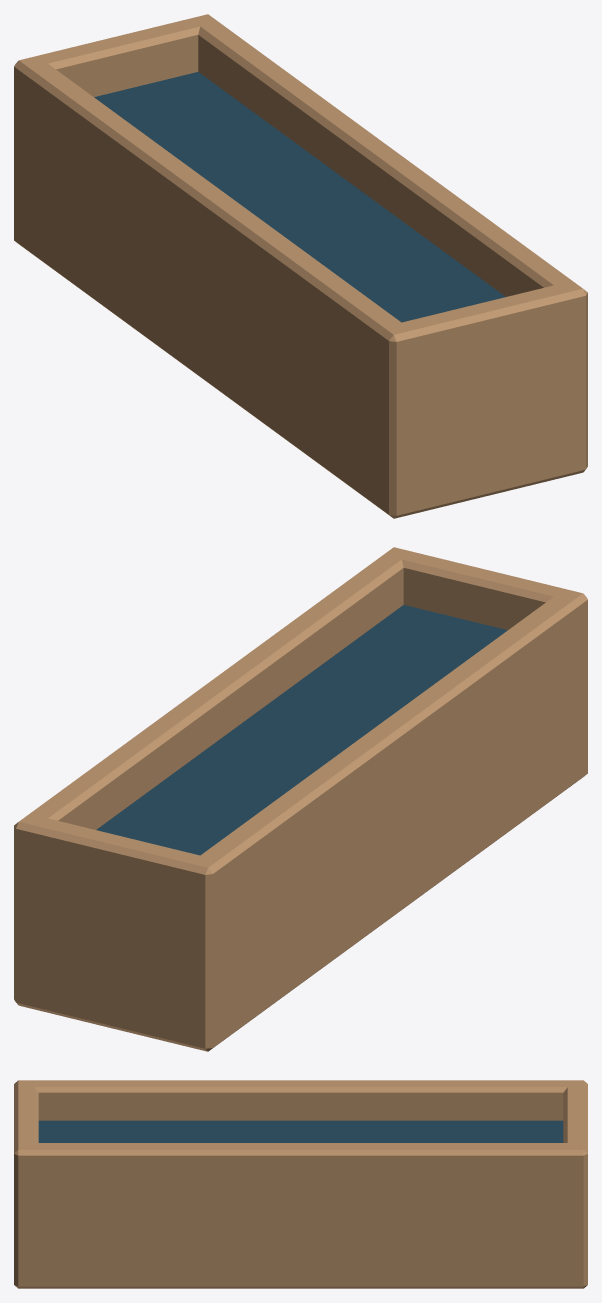
The model's file is Trough A-col.glb.
3 views of the same model, one above another, from view 1: azimuth 30°, elevation 25°; view 2: azimuth 150°, elevation 25°; view 3: azimuth 270°, elevation 25° (orthographic). The views are drawn at different scales.
Parts seen in each view (by area): view 1: Trough A-col; view 2: Trough A-col; view 3: Trough A-col.
Part boxes in pixels (bbox=[...]): Trough A-col: bbox=[14, 14, 587, 518]; Trough A-col: bbox=[14, 547, 587, 1051]; Trough A-col: bbox=[14, 1080, 587, 1288].
Size of the model in its own units: 0.4527 by 0.4 by 1.5.
